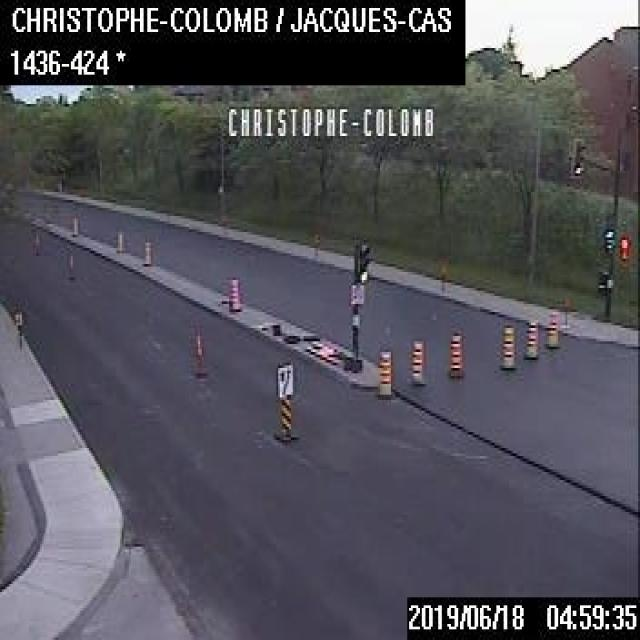construction: (271, 358, 298, 443), (445, 328, 464, 379), (500, 320, 516, 369), (408, 333, 423, 384), (376, 346, 391, 395), (543, 308, 558, 348), (192, 327, 204, 375), (524, 318, 538, 358), (228, 272, 240, 309), (143, 237, 151, 265), (115, 230, 124, 252), (70, 213, 76, 237)
